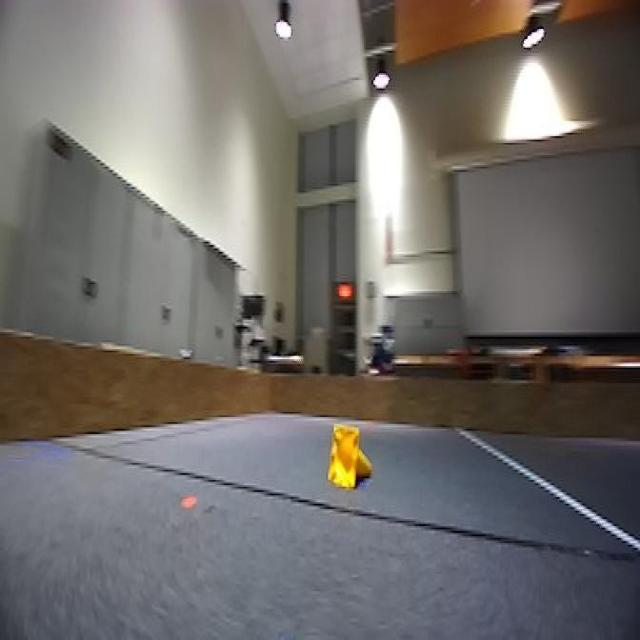frc_cone: (324, 424, 371, 497)
